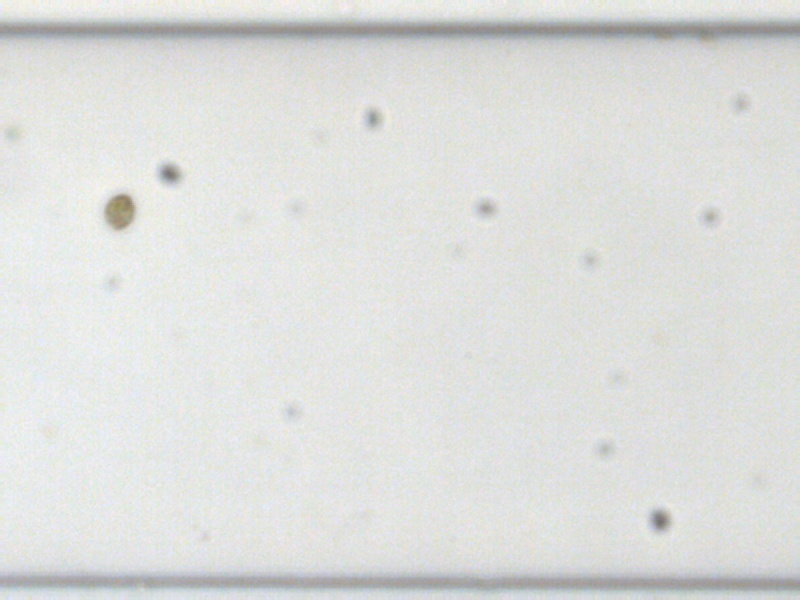Effrenium: (101, 190, 137, 232)
